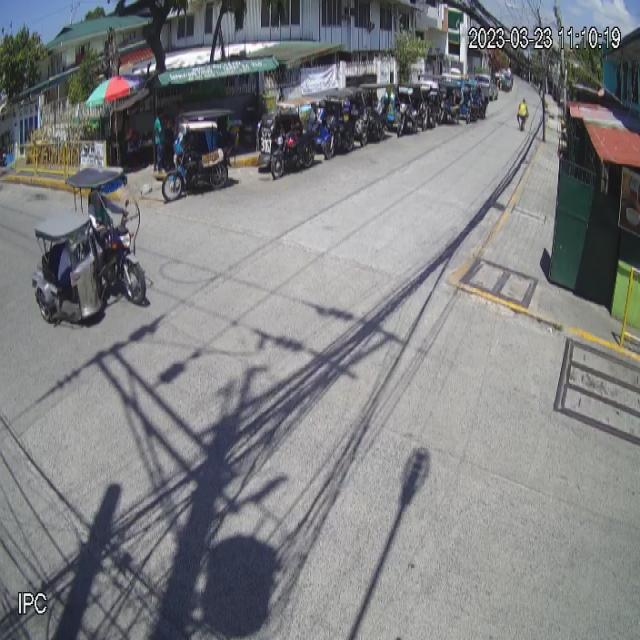Tricycle: (32, 166, 146, 324)
